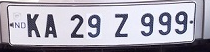2: (68, 14, 86, 39)
9: (87, 14, 102, 38), (158, 11, 173, 35), (140, 11, 154, 36), (174, 10, 188, 35)
A: (25, 12, 43, 37), (44, 12, 60, 39)
Z: (113, 12, 129, 38)
